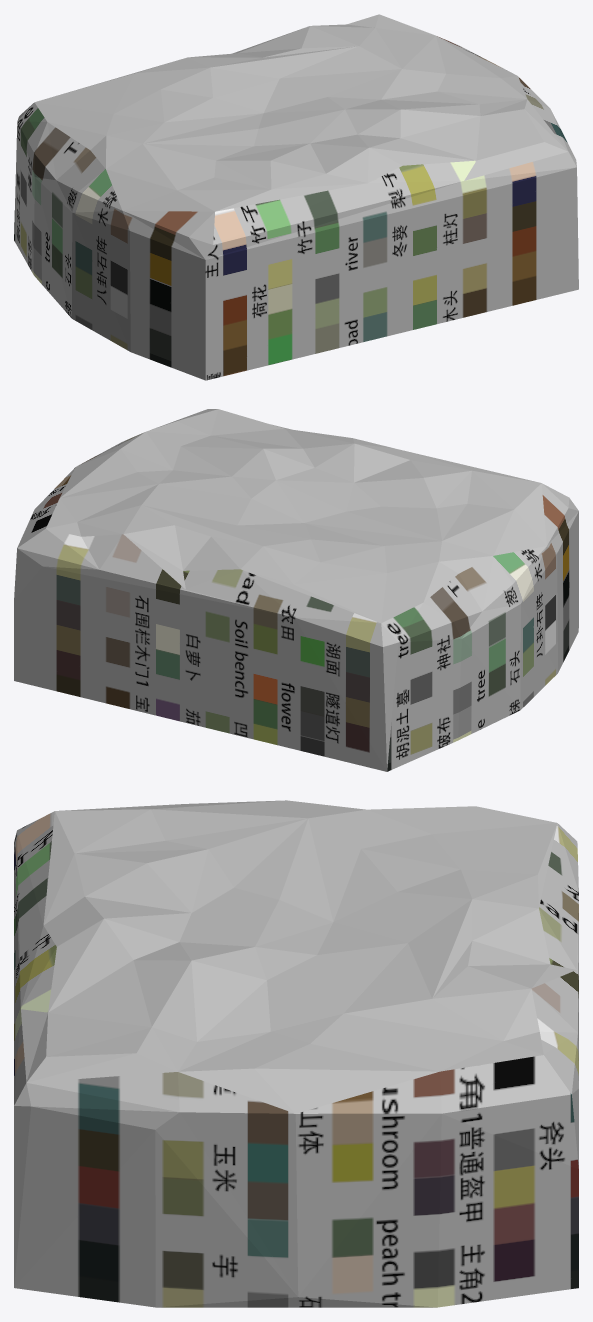
The model's file is road2.fbx.
3 views of the same model, one above another, from view 1: azimuth 30°, elevation 25°; view 2: azimuth 150°, elevation 25°; view 3: azimuth 270°, elevation 25° (orthographic). The views are drawn at different scales.
Visible parts, largest first — view 1: road2; view 2: road2; view 3: road2.
Part boxes in pixels (box(x1,y1,x2,y2)): road2: box(14, 14, 578, 380); road2: box(14, 409, 578, 771); road2: box(14, 800, 578, 1307).
Bounding box in the file's own units: 183 × 63.98 × 135.
